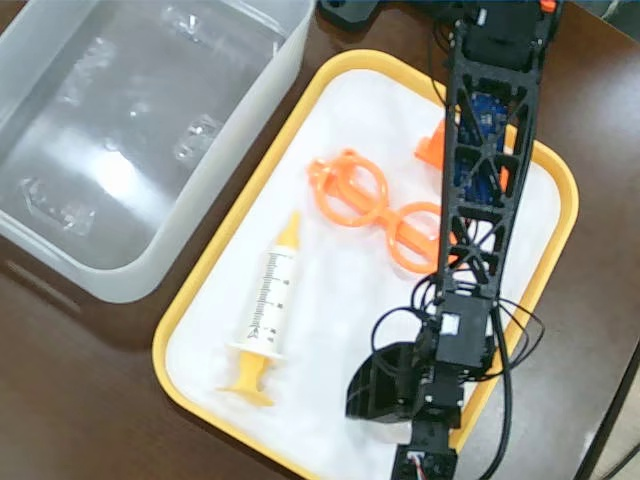syringe: (215, 209, 305, 414)
